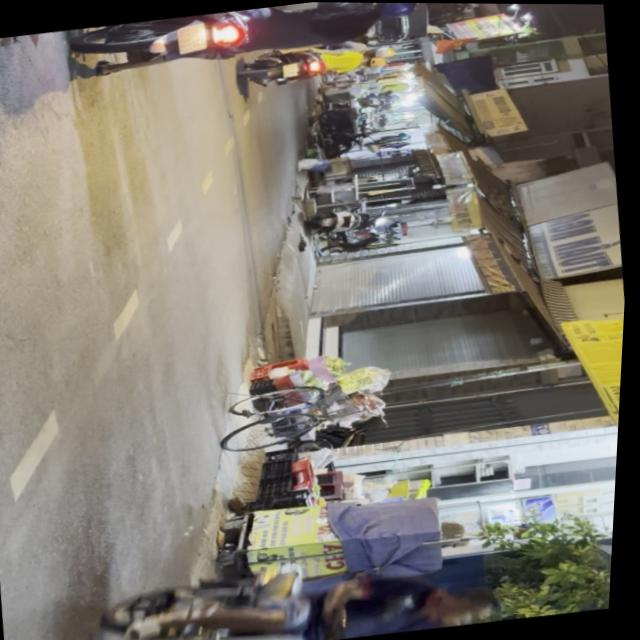helmet: (365, 2, 421, 21), (365, 2, 418, 6)
licenseplate: (48, 532, 515, 640), (68, 0, 431, 88)
motorcyclist: (427, 579, 509, 627)
nohelmet: (178, 22, 211, 53)
